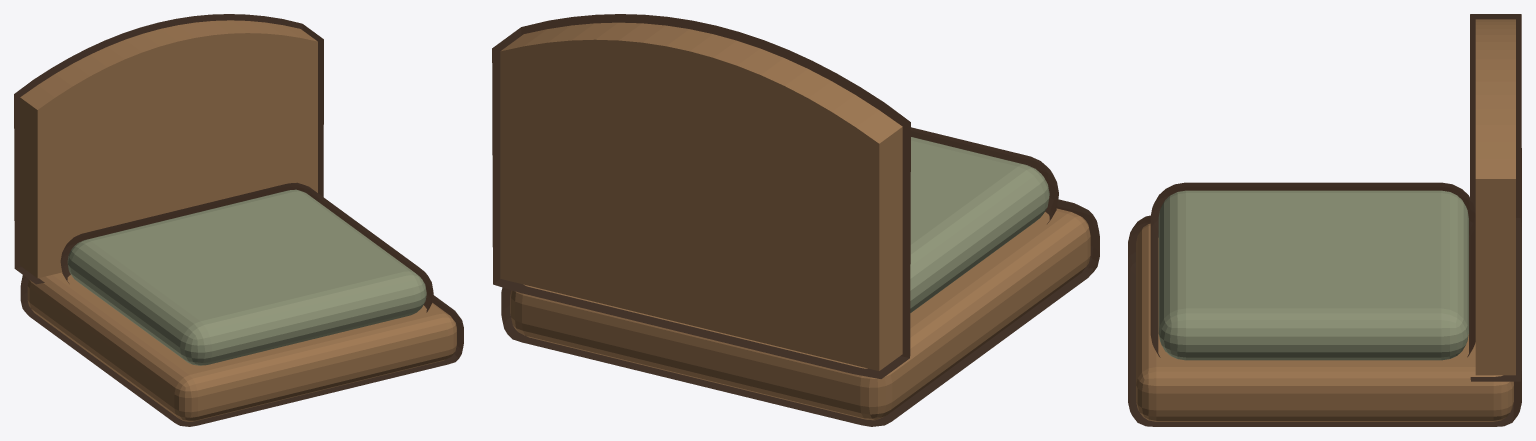
File: teahouse-seat.glb
3 views of the same model, side by side, from view 1: azimuth 30°, elevation 25°; view 2: azimuth 150°, elevation 25°; view 3: azimuth 270°, elevation 25° (orthographic). The views are drawn at different scales.
Visible parts, largest first — view 1: teahouse-seat, teahouse-seat-outline; view 2: teahouse-seat, teahouse-seat-outline; view 3: teahouse-seat, teahouse-seat-outline.
Part boxes in pixels (x1,y1,x2,y2): teahouse-seat: [20, 20, 456, 421]; teahouse-seat-outline: [14, 14, 463, 426]; teahouse-seat: [500, 22, 1090, 420]; teahouse-seat-outline: [492, 14, 1099, 426]; teahouse-seat: [1136, 19, 1515, 421]; teahouse-seat-outline: [1128, 14, 1521, 426].
Bounding box in the file's own units: 0.8756 × 0.7232 × 0.8756.
